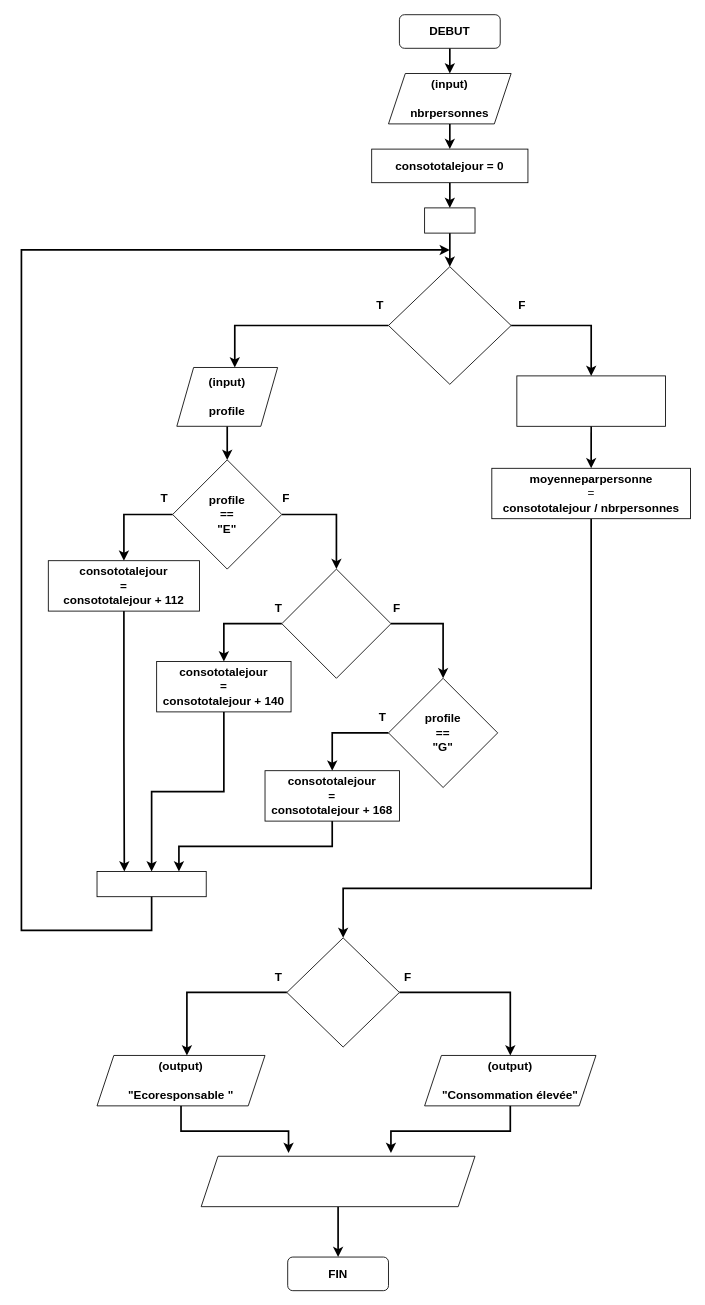
Some shapes in this 705 by 1305 pixel diagram are drawn without their labels. The shapes that lost their labels are listed below. From the top down, each one's box as (x1, y1, x2, y2) in pixels, then its label:
(424, 207, 475, 233): i = 0
(388, 266, 511, 384): i <= nbrpersonnes
(516, 375, 666, 426): consomensuelle = consototalejour * 30
(281, 568, 391, 678): profile == "S"
(96, 871, 206, 897): i = i + 1
(286, 937, 399, 1047): moyenne < 120
(200, 1155, 475, 1207): (output) consomensuelle
